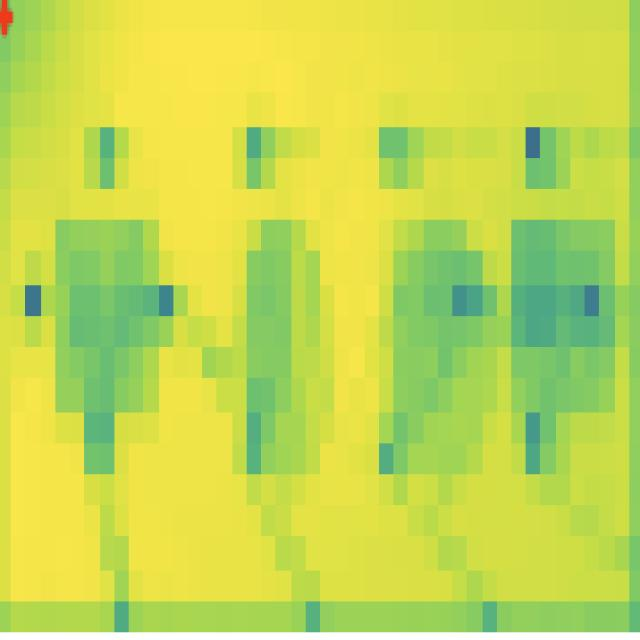Concrete: (47, 196, 167, 492)
Glass: (506, 198, 620, 482)
Metal: (222, 176, 341, 499)
Wood: (364, 205, 501, 494)
